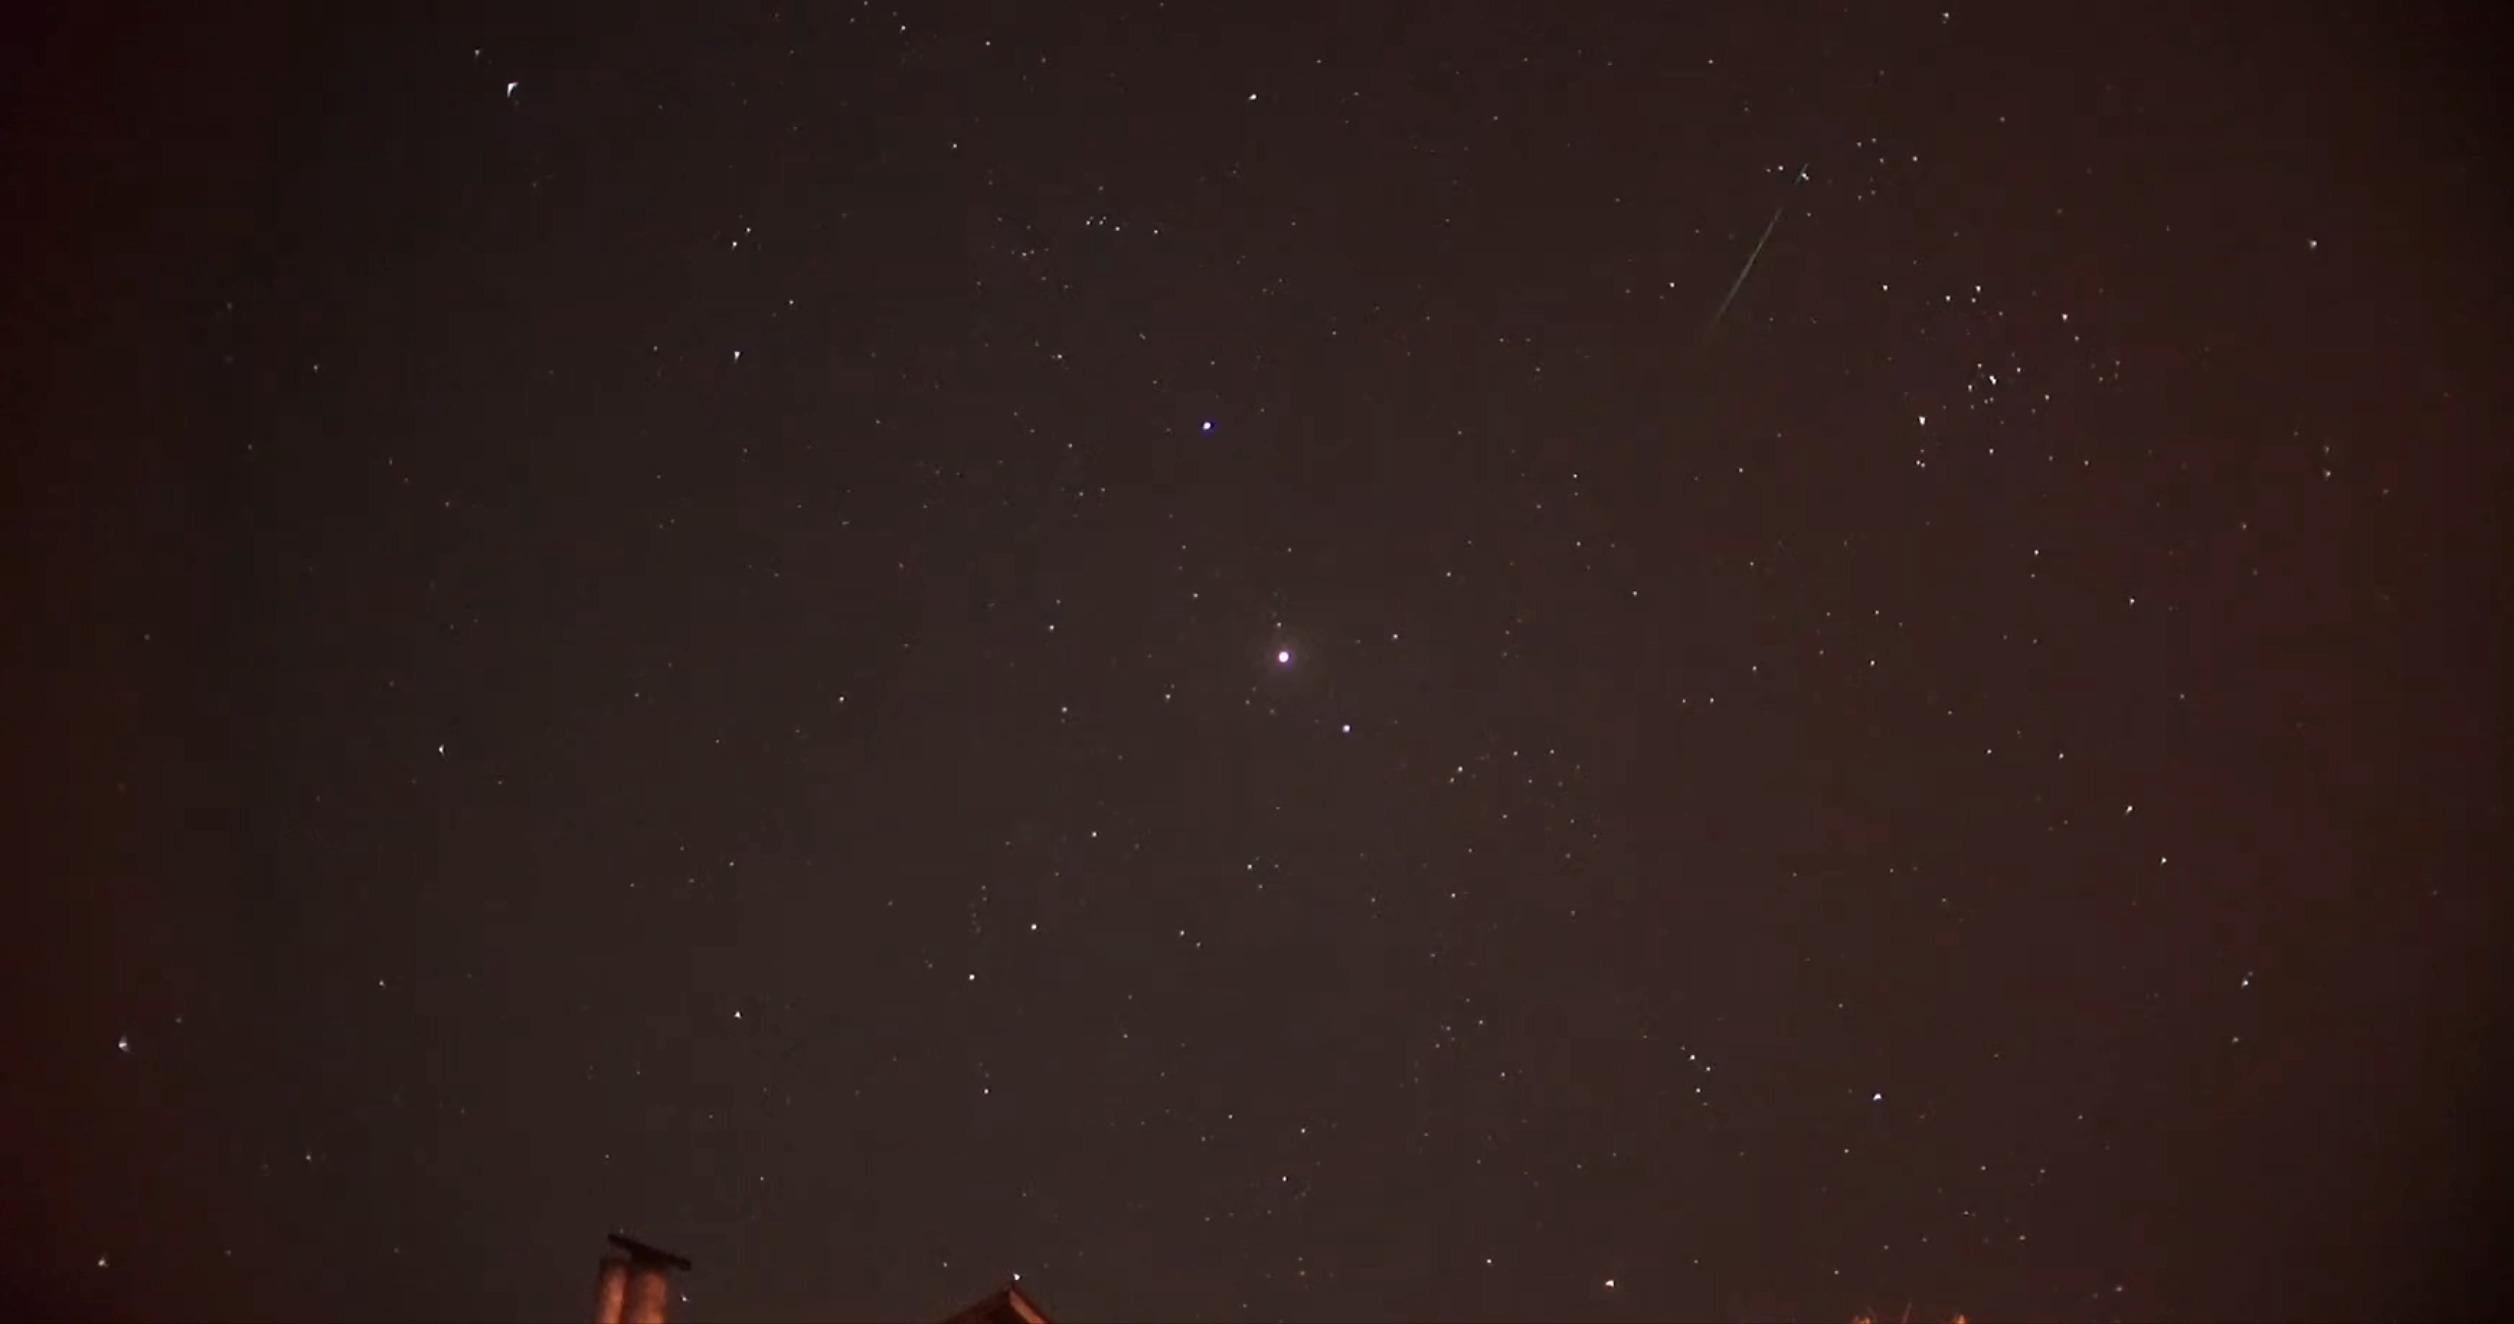meteorite: (1684, 206, 1812, 334)
